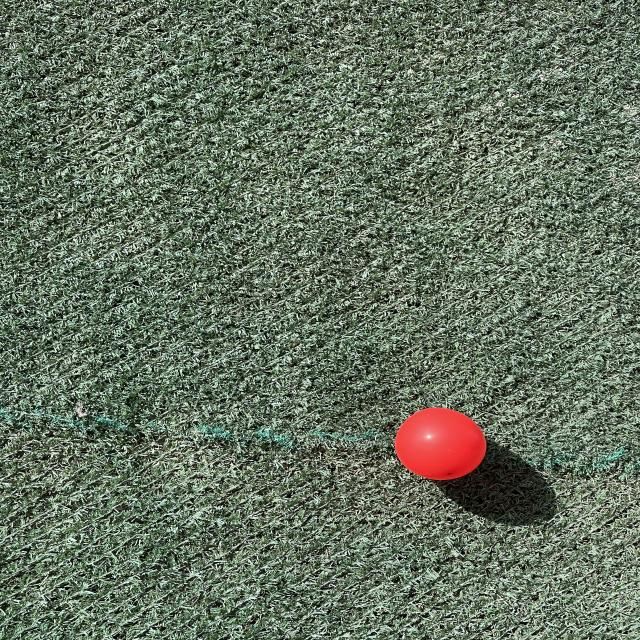balloon: (395, 408, 486, 480)
